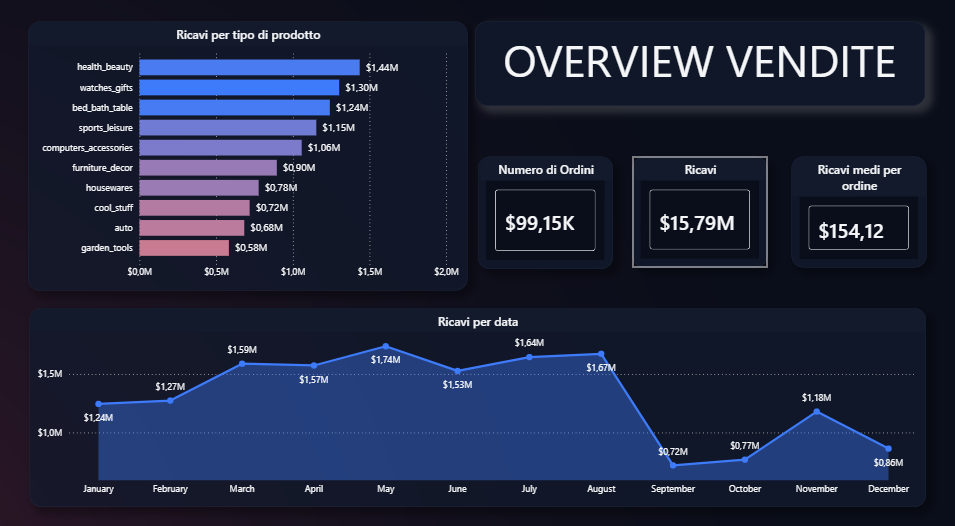

Layout of this report page (visuals, bound fields, positions):
{"tool":"powerbi","page":{"name":"Overview","canvas":[1280,720],"ordinal":0},"visuals":[{"type":"cardVisual","title":"Numero di Ordini","fields":{"Data":["Sum(overview.order_numbers)"]},"box":[640,210,180,150],"z":0},{"type":"cardVisual","title":"Ricavi","fields":{"Data":["Sum(overview.order_value)"]},"box":[846,210,180,148],"z":1000},{"type":"cardVisual","title":"Ricavi medi per ordine","fields":{"Data":["Avg(overview.average_price)"]},"box":[1058,210,180,148],"z":2000},{"type":"areaChart","title":"Ricavi per data","fields":{"Category":["overview.order_month.Variation.Date Hierarchy.Year","overview.order_month.Variation.Date Hierarchy.Quarter","overview.order_month.Variation.Date Hierarchy.Month","overview.order_month.Variation.Date Hierarchy.Day"],"Y":["Sum(overview.order_value)"]},"box":[41.7,411.7,1195,265],"z":3000},{"type":"barChart","title":"Ricavi per tipo di prodotto","fields":{"Category":["overview.product_category_name_english"],"Y":["Sum(overview.order_value)"]},"box":[40.9,30.3,586,358.9],"z":4000},{"type":"textbox","box":[635.4,29.3,600.3,91.9],"z":5000}]}

Visuals, with their boxes in screenshot pixels (x1, y1, x2, y2), scaled from the page's 1280x720 canvas onto the 955x526 screenshot:
"Numero di Ordini" cardVisual: [478,153,612,263]
"Ricavi" cardVisual: [631,153,765,262]
"Ricavi medi per ordine" cardVisual: [789,153,924,262]
"Ricavi per data" areaChart: [31,301,923,494]
"Ricavi per tipo di prodotto" barChart: [31,22,468,284]
textbox: [474,21,922,89]
